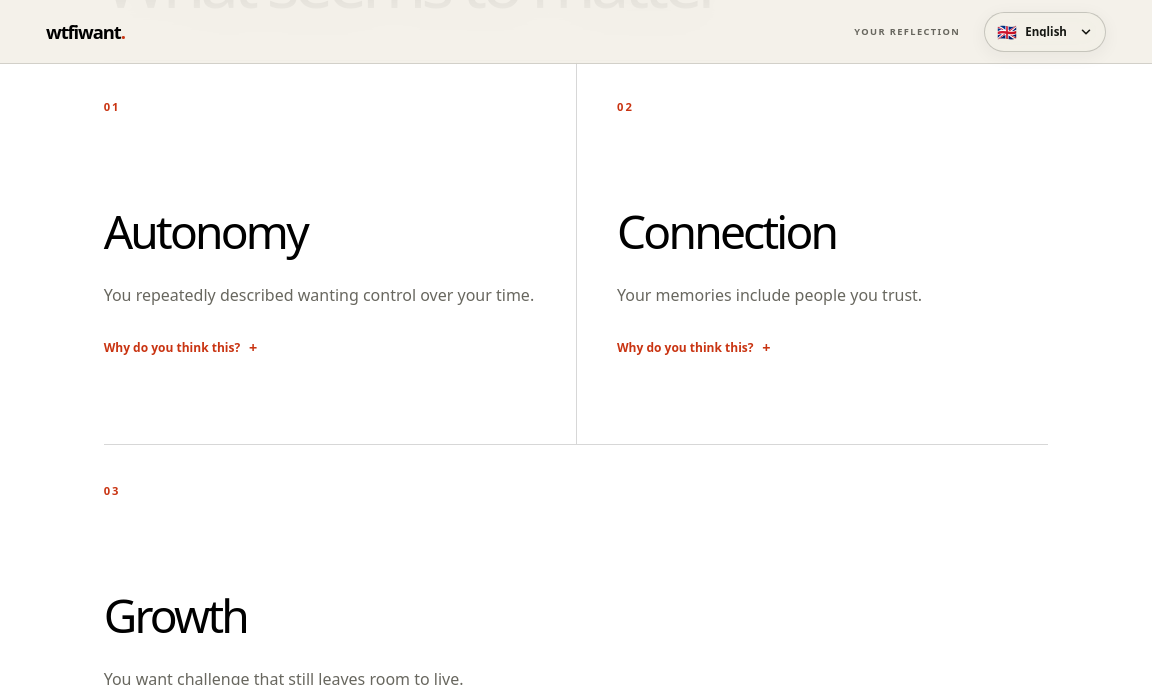
Test: results experience › shows analysis evidence and saves a concrete action plan
(page scrolled)
Click the 1st heading "Why do you think this?".
click(180, 348)  # box [104,340,257,356]
(page scrolled)
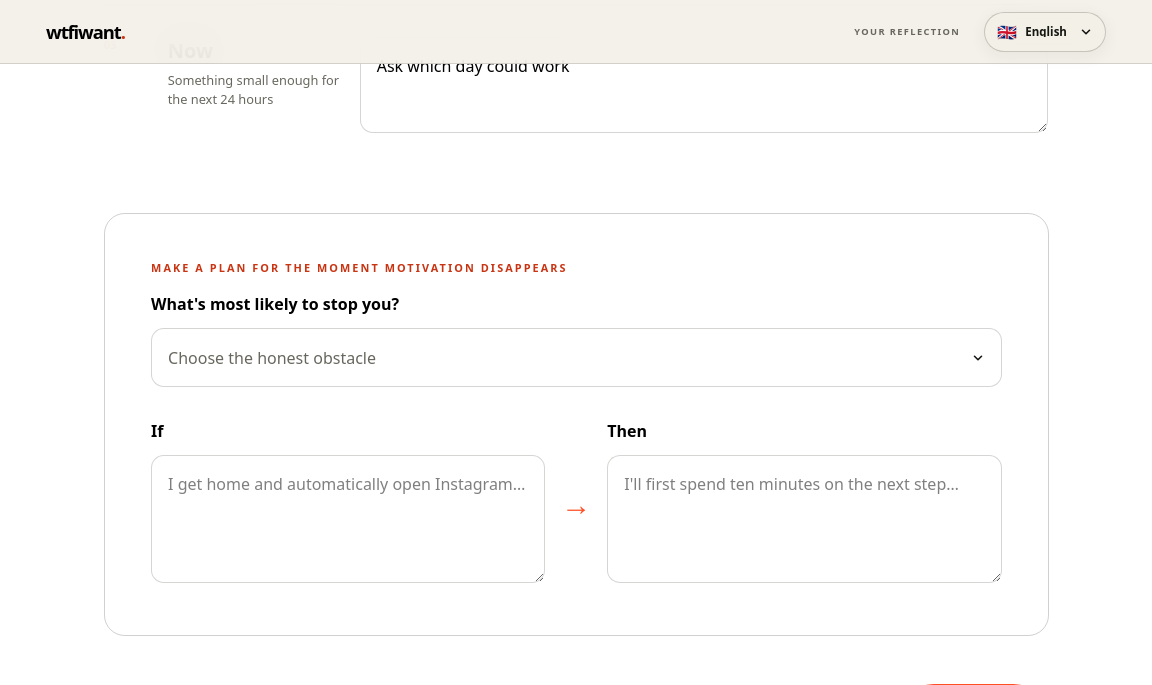
Click the dropdown named "What's most likely to stop you?".
click(272, 358)  # box [151,329,1001,387]
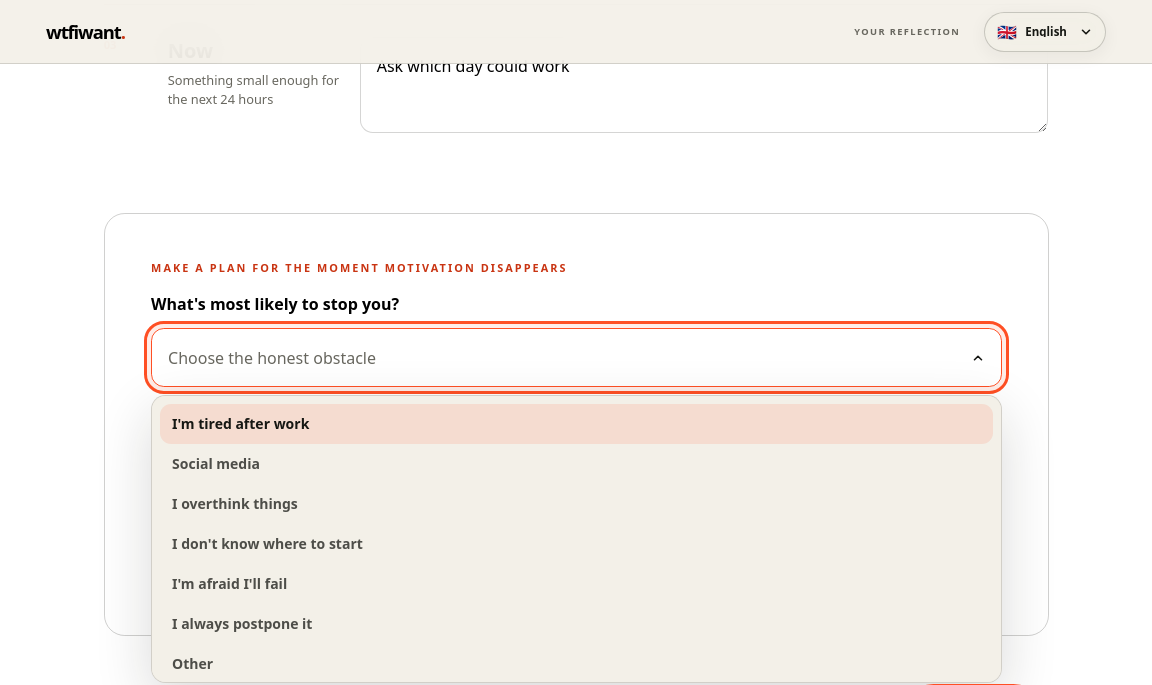
Click the option "I overthink things".
click(235, 504)  # box [160,484,992,524]
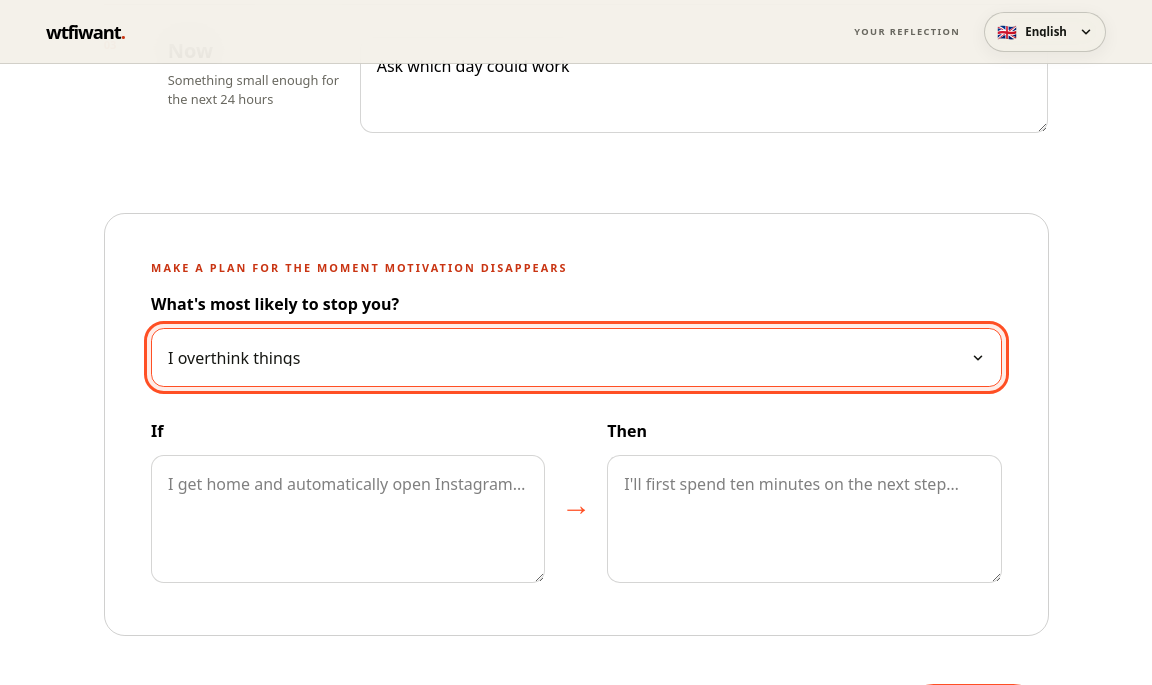
Type "I begin researching forever" into the text box labelled "If".
click(348, 519); type("I begin researching forever")  # box [151,455,545,583]
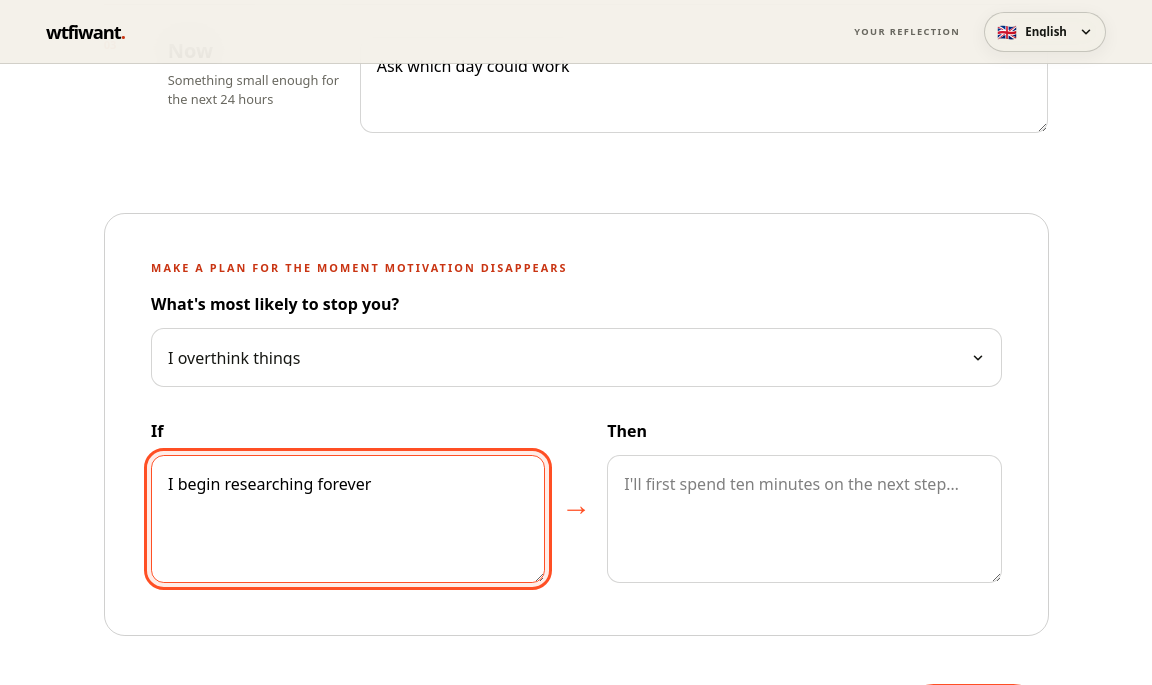
Type "I will take the first ten-minute action" into the text box labelled "Then".
click(804, 519); type("I will take the first ten-minute action")  # box [607,455,1001,583]
(page scrolled)
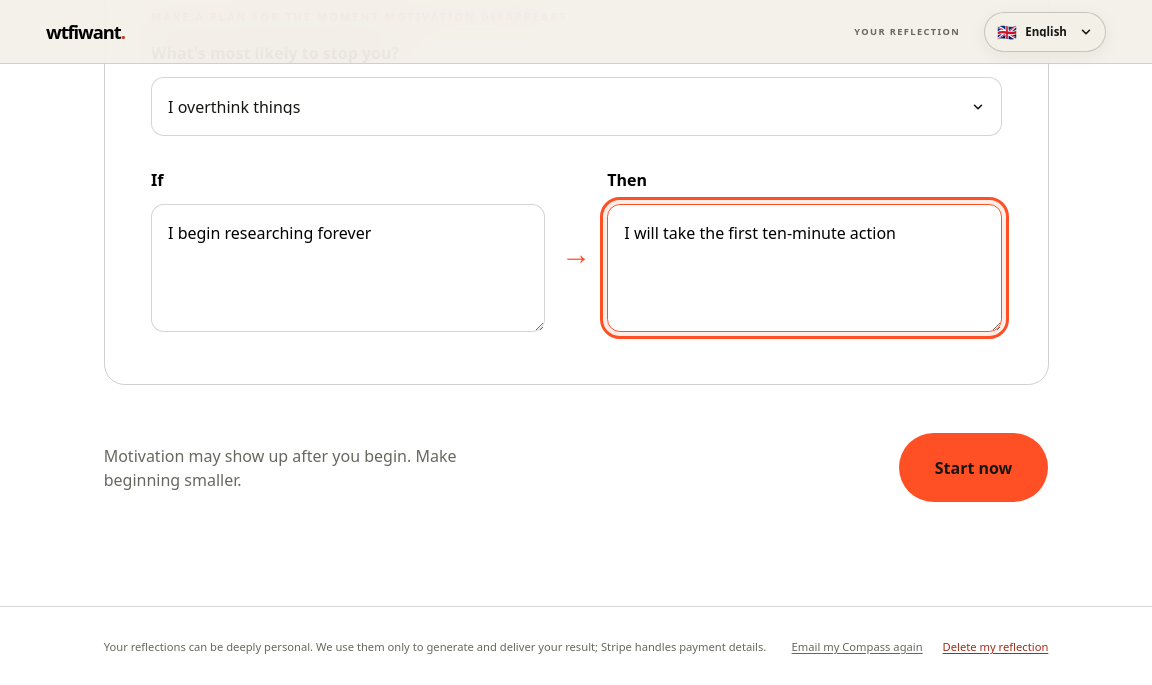
Click the button "Start now".
click(974, 468)  # box [899,433,1048,502]
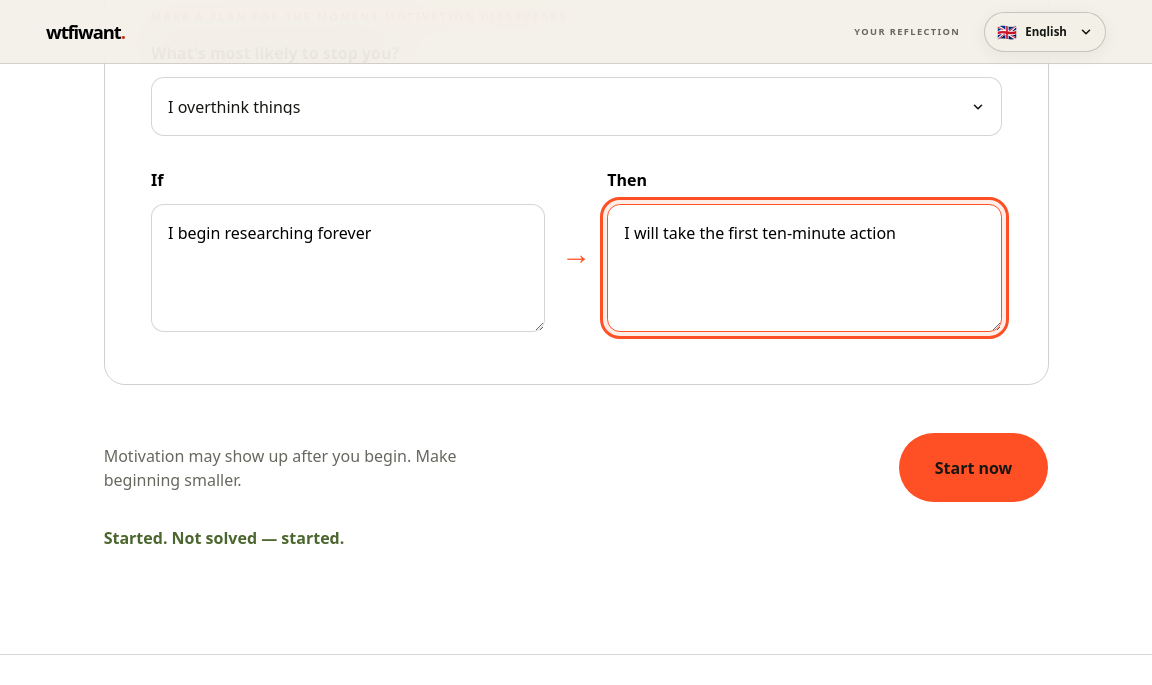
Now the text "Started. Not solved — started." is shown, box [104,527,344,549]
